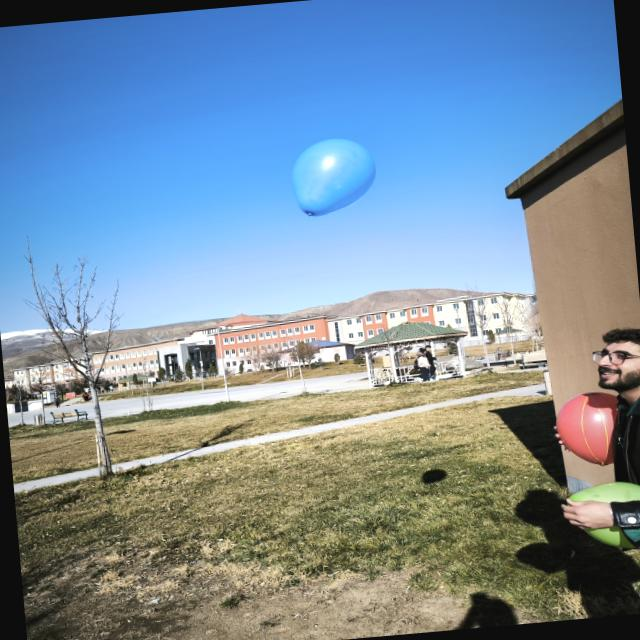balloon: (292, 138, 375, 215), (556, 392, 617, 465), (571, 481, 640, 503), (587, 526, 634, 548)
